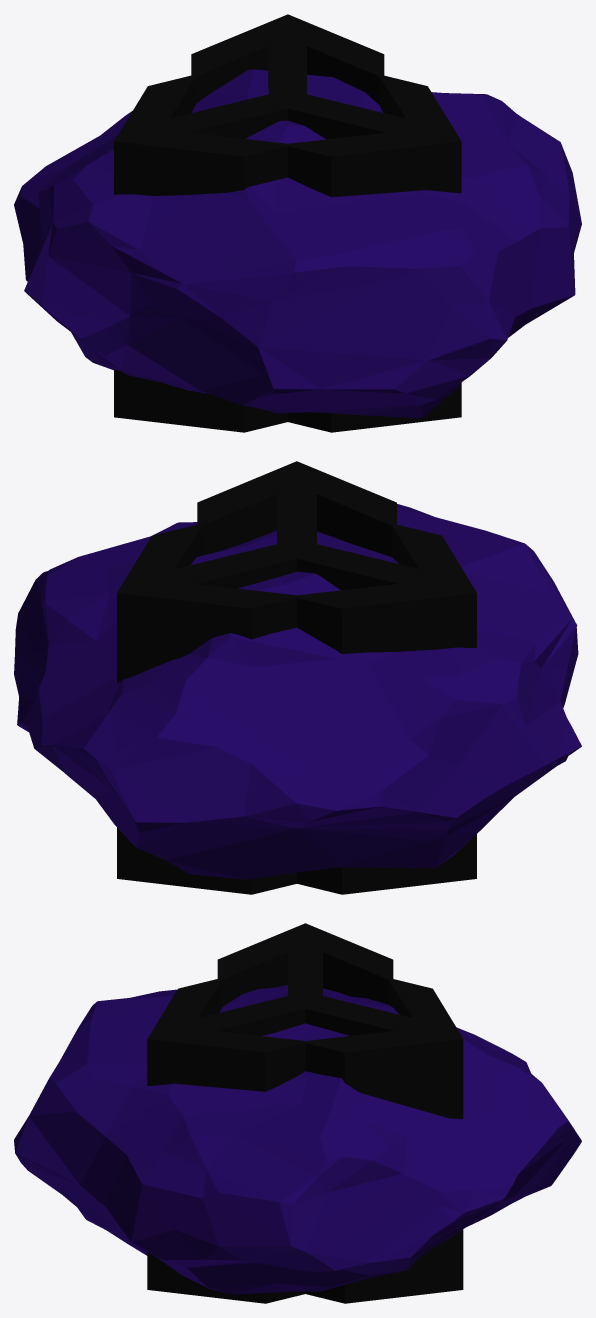
The model's file is Unity.glb.
3 views of the same model, one above another, from view 1: azimuth 30°, elevation 25°; view 2: azimuth 150°, elevation 25°; view 3: azimuth 270°, elevation 25° (orthographic). The views are drawn at different scales.
Visible parts, largest first — view 1: Cube.007, Curve; view 2: Cube.007, Curve; view 3: Cube.007, Curve.
Boxes of the visible parts, bbox=[...] form: Cube.007: bbox=[14, 69, 581, 418]; Curve: bbox=[114, 14, 461, 432]; Cube.007: bbox=[14, 504, 581, 879]; Curve: bbox=[117, 461, 476, 894]; Cube.007: bbox=[14, 985, 581, 1294]; Curve: bbox=[147, 923, 463, 1303].
Size of the model in its own units: 2 by 0.9943 by 2.04.
